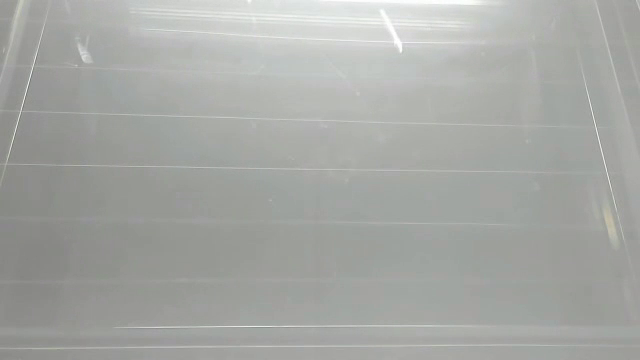alpha: (375, 6, 406, 56), (72, 30, 99, 68)
